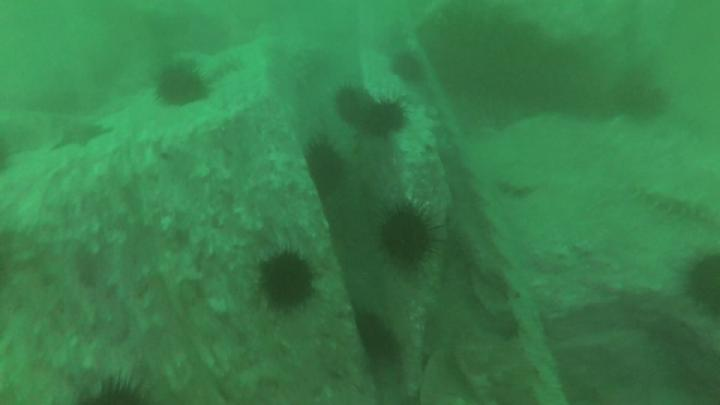echinus: (382, 209, 435, 266), (258, 257, 313, 308), (156, 71, 209, 107), (307, 144, 345, 193), (359, 315, 396, 359), (336, 86, 370, 126), (369, 104, 407, 133), (391, 55, 423, 81)
holothurian: (639, 183, 719, 232), (499, 176, 537, 199), (206, 57, 245, 78)
starfish: (55, 123, 108, 149)
